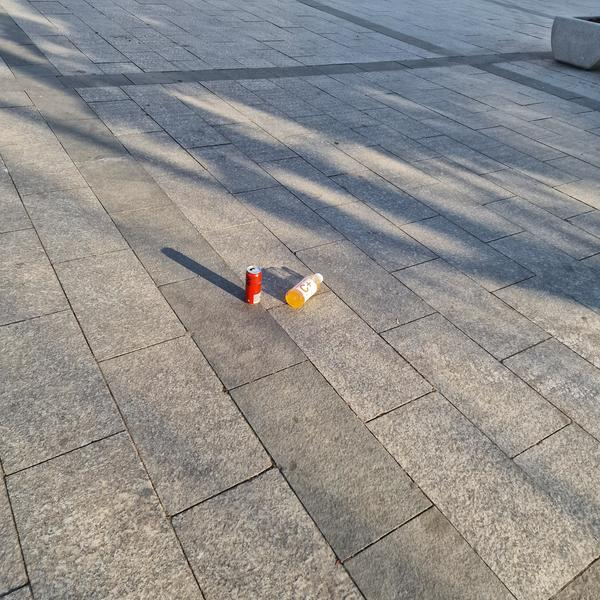can: (245, 265, 261, 304)
plastic_bottle: (282, 266, 327, 312)
